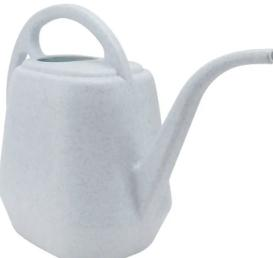ARROSOIR: (2, 0, 273, 258)
